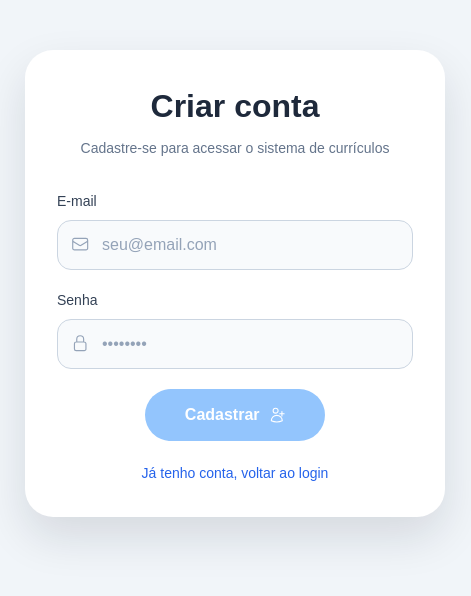
Scenario: CadastroPage › shows an error message when creating the login fails
In the field labelled "E-mail": coordinates (235, 244) [57,220,413,270], type "new@example.com"
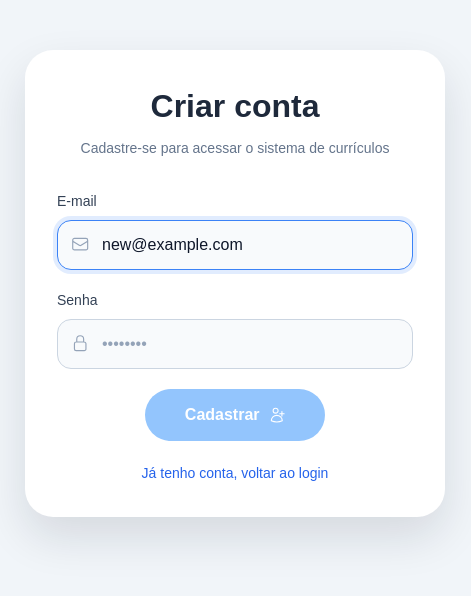
In the password field labelled "Senha": coordinates (235, 344) [57,318,413,368], type "123456"
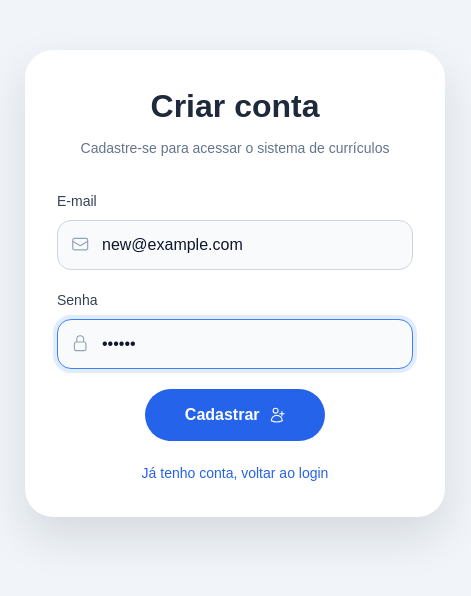
Click the button "Cadastrar": coordinates (235, 414) [145,388,325,440]
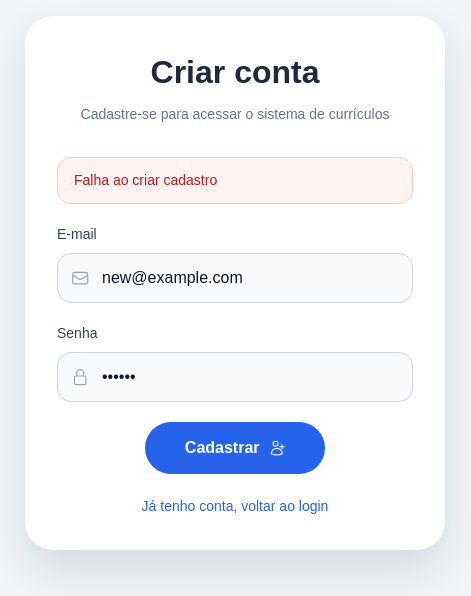
Expected: the text "Falha ao criar cadastro" is shown, [57,157,413,204]
